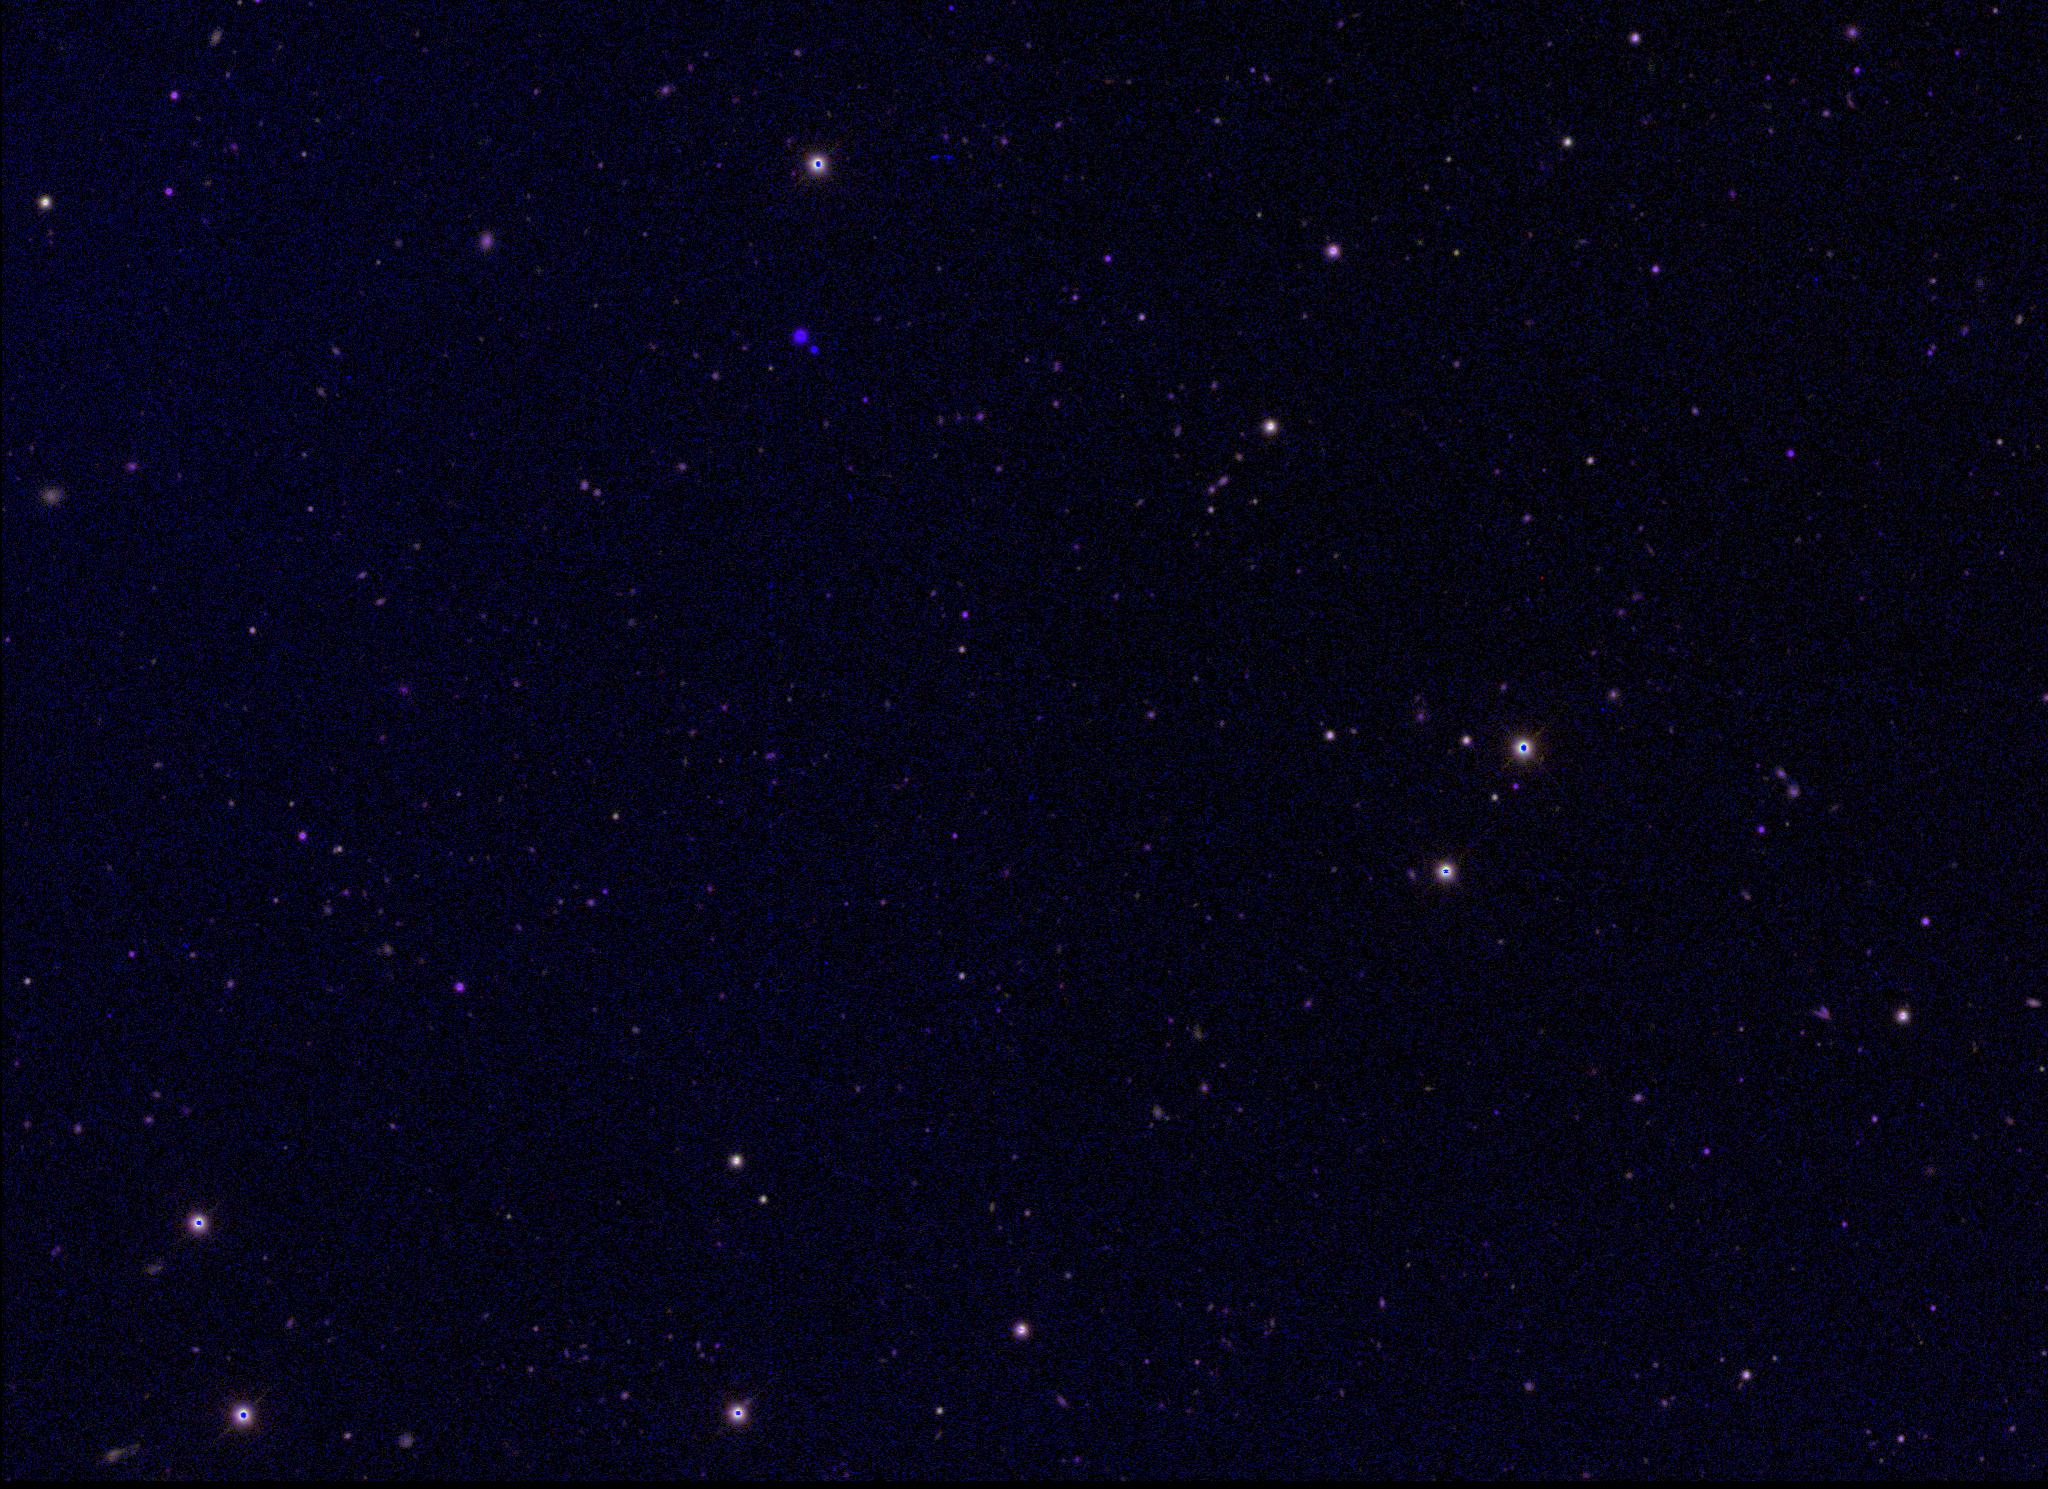L: (808, 344, 820, 356)
